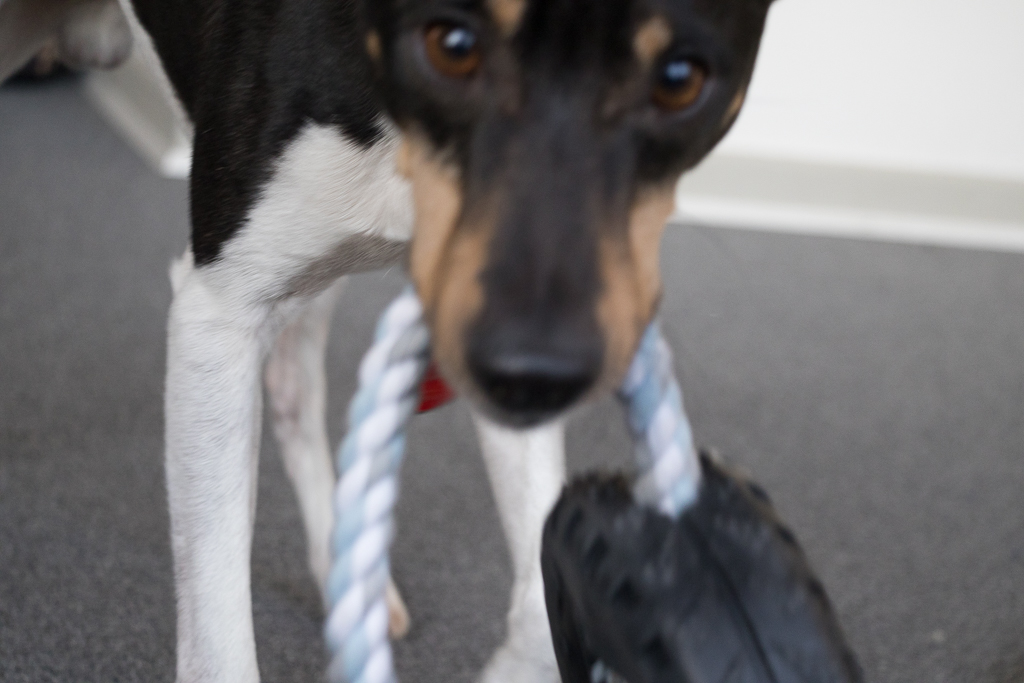Dog: (0, 0, 778, 683)
